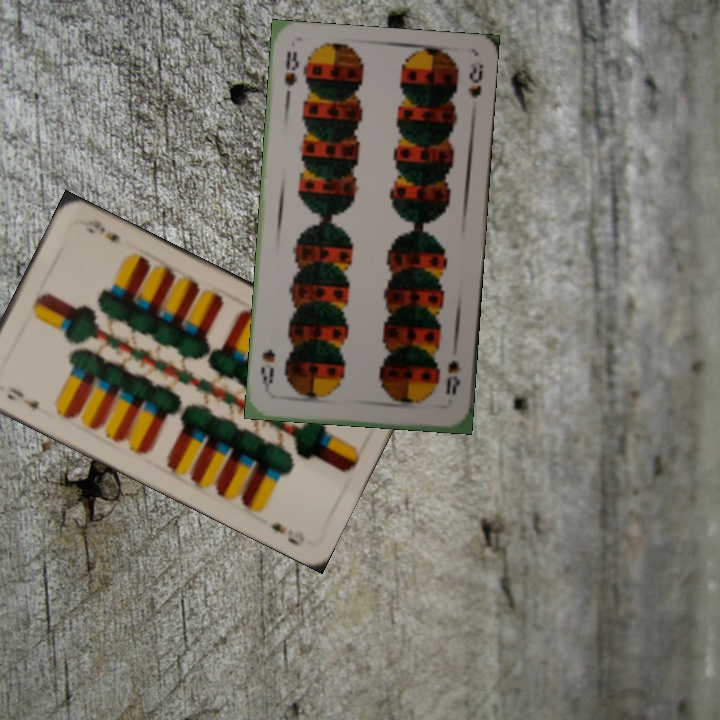E9: (3, 383, 42, 413)
S8: (280, 46, 302, 104), (442, 356, 463, 398)
